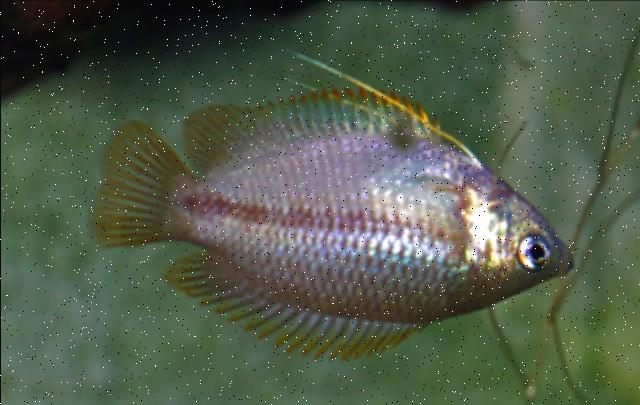Mulut: (542, 229, 586, 295)
Sirip Dada: (461, 102, 539, 198)
Sirip Ekor: (167, 83, 437, 175), (74, 103, 180, 269)
Sirip Perut: (252, 40, 488, 178)
Sirip Punggung: (156, 251, 430, 373)
